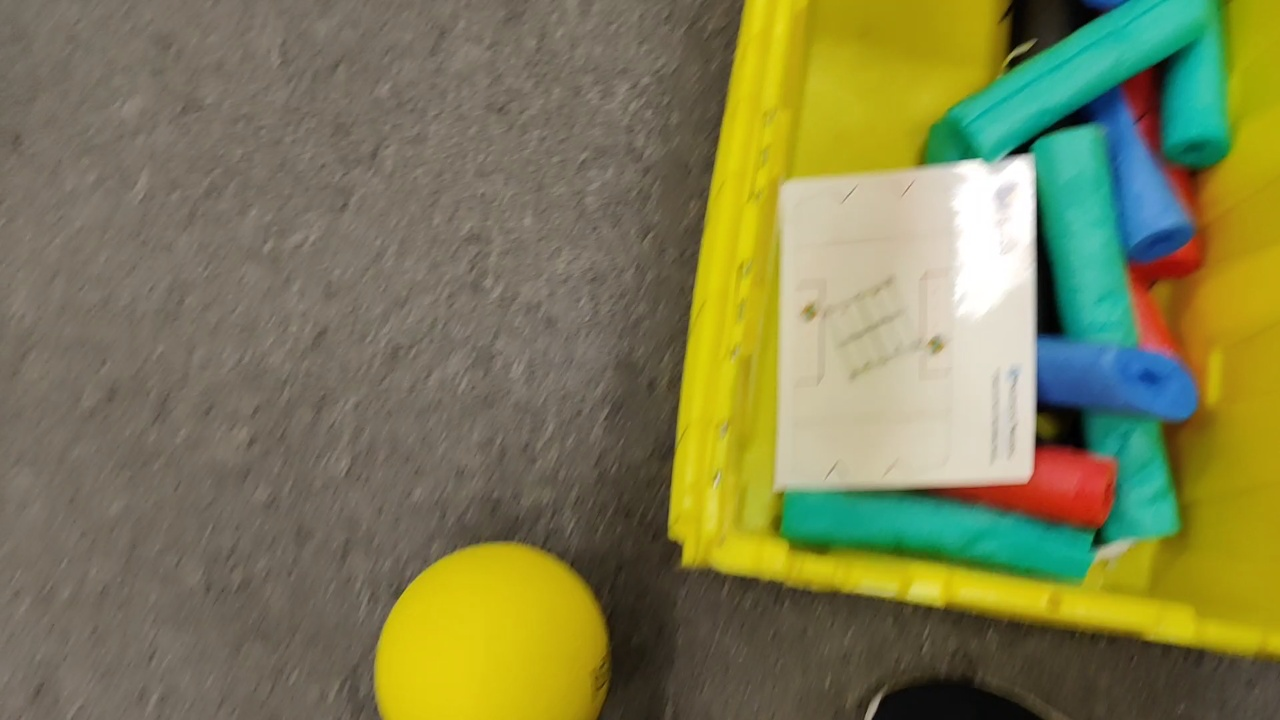Ball: (373, 541, 613, 719)
